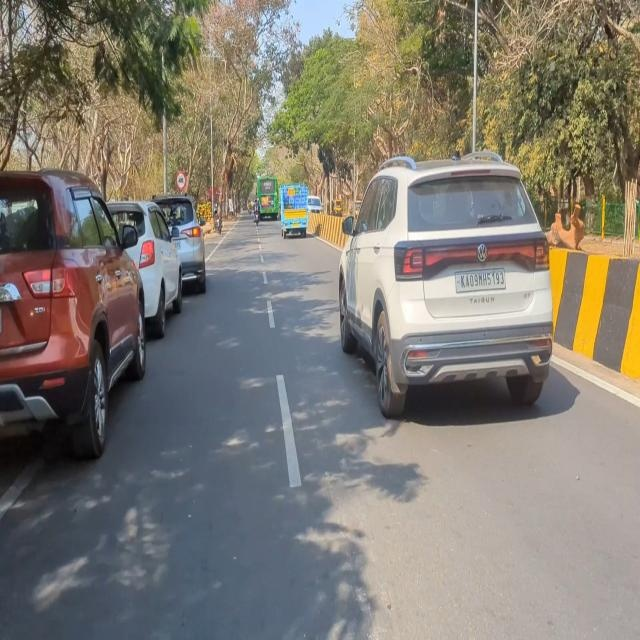bien_nguy_hiem: (175, 171, 186, 190)
